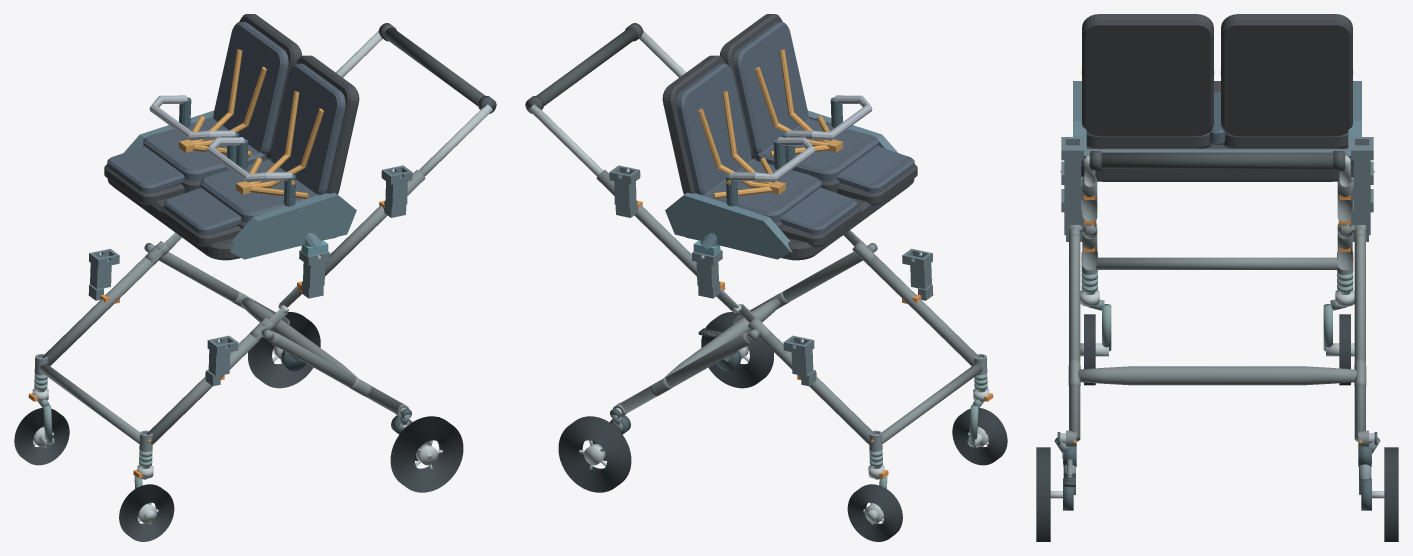
Rendered from S10_w650_state1_wheel_S.glb.
The picture shows the model from 3 angles, left to right: view 1: azimuth 30°, elevation 25°; view 2: azimuth 150°, elevation 25°; view 3: azimuth 270°, elevation 25°; orthographic projection. The views are drawn at different scales.
Visible parts, largest first — view 1: S10_Cabin, RL_tire.008, RR_tire.008, FL_tire.008, FR_tire.008, main_lower_1.009, round_handle.008, V46_rear_leg_-1.009, main_lower_-1.009, main_upper_-1.009, front_fixed_round_tube.008, V46_rearbar.009 (+6 smaller); view 2: S10_Cabin, RR_tire.008, FR_tire.008, RL_tire.008, FL_tire.008, main_lower_-1.009, round_handle.008, V46_rear_leg_1.009, main_lower_1.009, main_upper_1.009, front_fixed_round_tube.008, V46_rearbar.009 (+6 smaller); view 3: S10_Cabin, V46_rearbar.009, round_handle.008, front_fixed_round_tube.008, V46_rear_leg_1.009, V46_rear_leg_-1.009, RL_tire.008, RR_tire.008, Universal_Cabin_Receiver_H_1, Universal_Cabin_Receiver_H_-1, FL_tire.008, FR_tire.008 (+8 smaller).
Part boxes in pixels (x1=…): S10_Cabin: x1=104, y1=14, x2=359, y2=260; RL_tire.008: x1=390, y1=416, x2=463, y2=492; RR_tire.008: x1=248, y1=312, x2=320, y2=388; FL_tire.008: x1=119, y1=484, x2=174, y2=541; FR_tire.008: x1=14, y1=408, x2=69, y2=465; main_lower_1.009: x1=42, y1=254, x2=161, y2=366; round_handle.008: x1=384, y1=27, x2=495, y2=112; V46_rear_leg_-1.009: x1=270, y1=333, x2=401, y2=413; main_lower_-1.009: x1=147, y1=333, x2=261, y2=444; main_upper_-1.009: x1=301, y1=170, x2=425, y2=282; front_fixed_round_tube.008: x1=39, y1=364, x2=139, y2=443; V46_rearbar.009: x1=241, y1=297, x2=357, y2=377; S10_Cabin: x1=662, y1=14, x2=917, y2=260; RR_tire.008: x1=558, y1=416, x2=631, y2=492; FR_tire.008: x1=847, y1=484, x2=902, y2=541; RL_tire.008: x1=701, y1=312, x2=773, y2=388; FL_tire.008: x1=952, y1=408, x2=1007, y2=465; main_lower_-1.009: x1=860, y1=254, x2=979, y2=366; round_handle.008: x1=526, y1=27, x2=637, y2=112; V46_rear_leg_1.009: x1=620, y1=333, x2=751, y2=413; main_lower_1.009: x1=760, y1=333, x2=874, y2=444; main_upper_1.009: x1=596, y1=170, x2=720, y2=282; front_fixed_round_tube.008: x1=882, y1=364, x2=982, y2=443; V46_rearbar.009: x1=664, y1=297, x2=780, y2=377; S10_Cabin: x1=1073, y1=14, x2=1361, y2=181; V46_rearbar.009: x1=1078, y1=366, x2=1356, y2=385; round_handle.008: x1=1089, y1=152, x2=1345, y2=168; front_fixed_round_tube.008: x1=1095, y1=257, x2=1339, y2=269; V46_rear_leg_1.009: x1=1354, y1=233, x2=1365, y2=441; V46_rear_leg_-1.009: x1=1069, y1=233, x2=1080, y2=441; RL_tire.008: x1=1036, y1=447, x2=1050, y2=541; RR_tire.008: x1=1384, y1=447, x2=1398, y2=541; Universal_Cabin_Receiver_H_1: x1=1351, y1=137, x2=1373, y2=200; Universal_Cabin_Receiver_H_-1: x1=1061, y1=137, x2=1083, y2=200; FL_tire.008: x1=1084, y1=314, x2=1095, y2=385; FR_tire.008: x1=1339, y1=314, x2=1350, y2=385.
Size of the model in its own units: 1.12 by 1.14 by 0.766.
